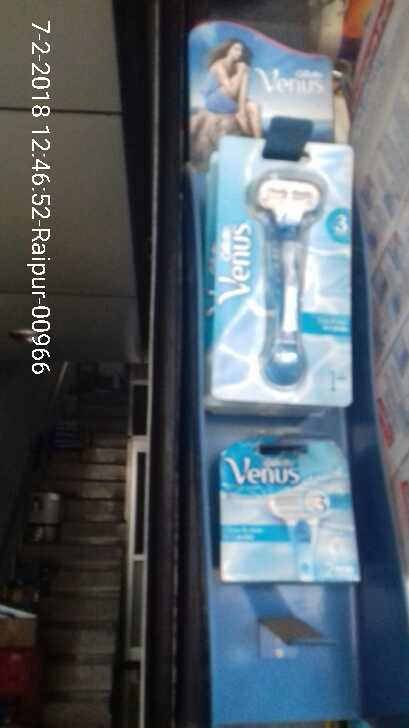venus: (213, 143, 356, 399), (212, 445, 365, 595)
